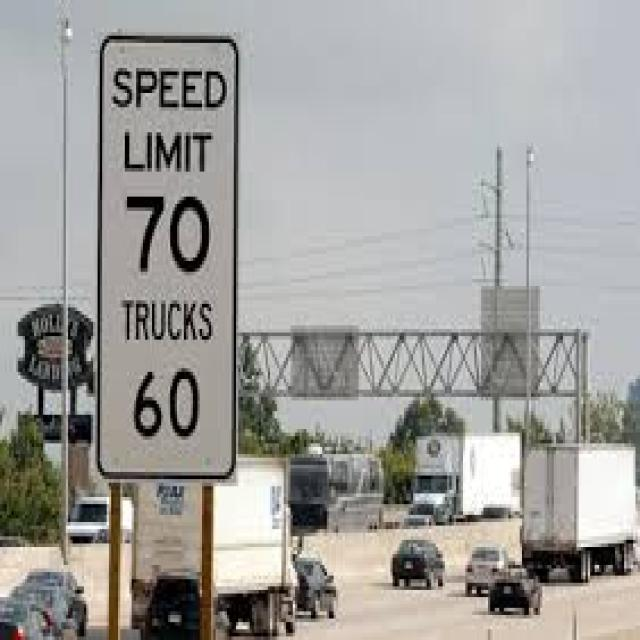speedLimit70: (97, 38, 237, 280)
